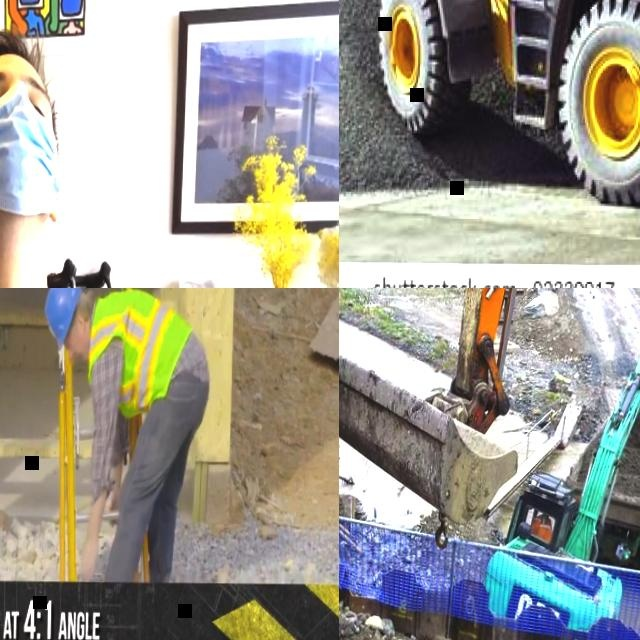Hardhat: (42, 288, 85, 355)
Mask: (0, 85, 61, 219)
NO-Hardhat: (0, 30, 49, 93)
NO-Mask: (74, 324, 88, 360)
Person: (40, 288, 211, 587), (0, 47, 187, 288), (532, 512, 552, 541)
Safety Vest: (87, 288, 192, 411), (536, 515, 552, 539)
machinery: (339, 288, 552, 640), (339, 0, 640, 216), (485, 351, 640, 636)
